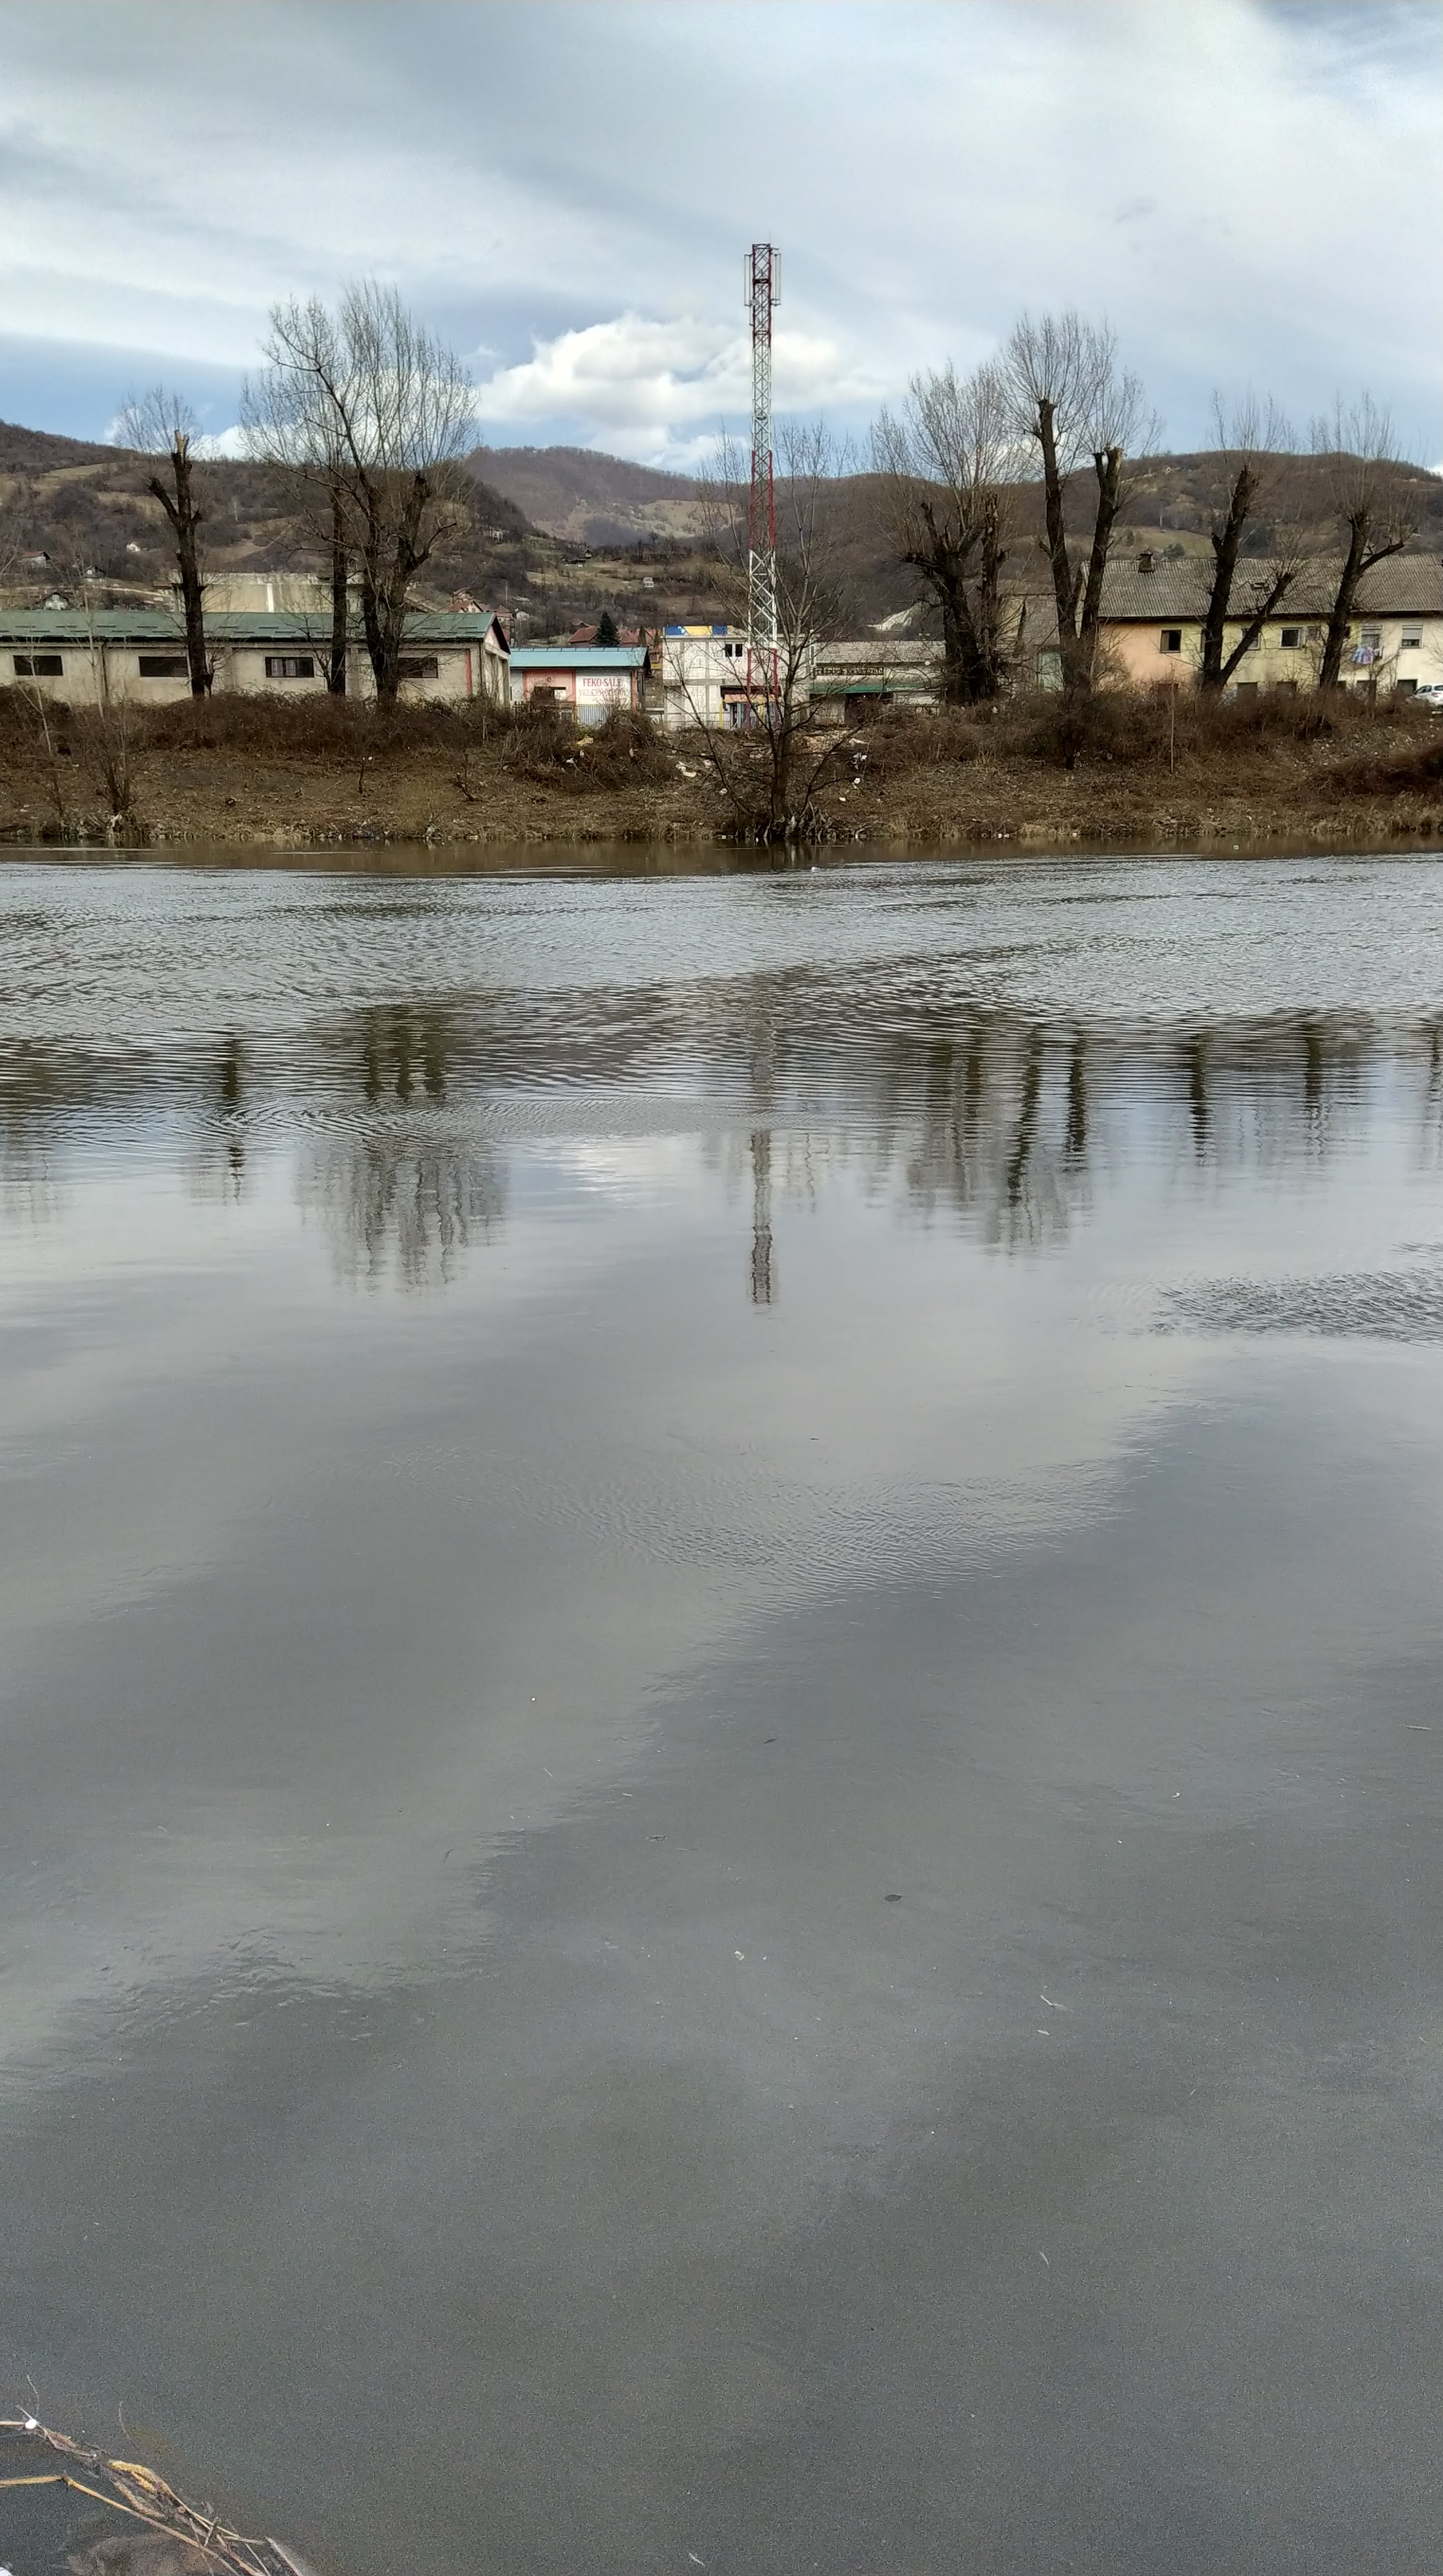Plastic Bottle: (811, 867, 818, 870), (1234, 846, 1239, 847), (1073, 833, 1076, 835)
